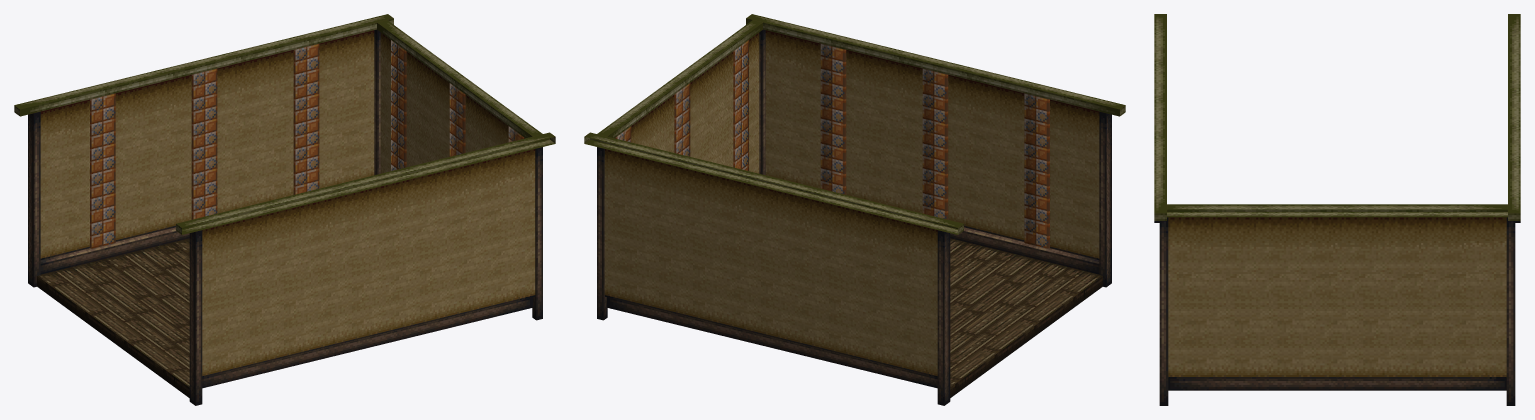
Rendered from EnvBdgMD_Sea_A_Indoor_Shop_Item_A.FBX.
3 renders of one model, left to right at view 1: azimuth 30°, elevation 25°; view 2: azimuth 150°, elevation 25°; view 3: azimuth 270°, elevation 25°, orthographic. The views are drawn at different scales.
Parts seen in each view (by area): view 1: EnvBdgMD_Sea_A_Indoor_Shop_Item_A; view 2: EnvBdgMD_Sea_A_Indoor_Shop_Item_A; view 3: EnvBdgMD_Sea_A_Indoor_Shop_Item_A.
Boxes of the visible parts, x1=… form: EnvBdgMD_Sea_A_Indoor_Shop_Item_A: x1=14, y1=14, x2=555, y2=405; EnvBdgMD_Sea_A_Indoor_Shop_Item_A: x1=584, y1=14, x2=1125, y2=405; EnvBdgMD_Sea_A_Indoor_Shop_Item_A: x1=1154, y1=14, x2=1520, y2=405.
Size of the model in its own units: 1100 by 510 by 855.
1 material, 1 textured.
